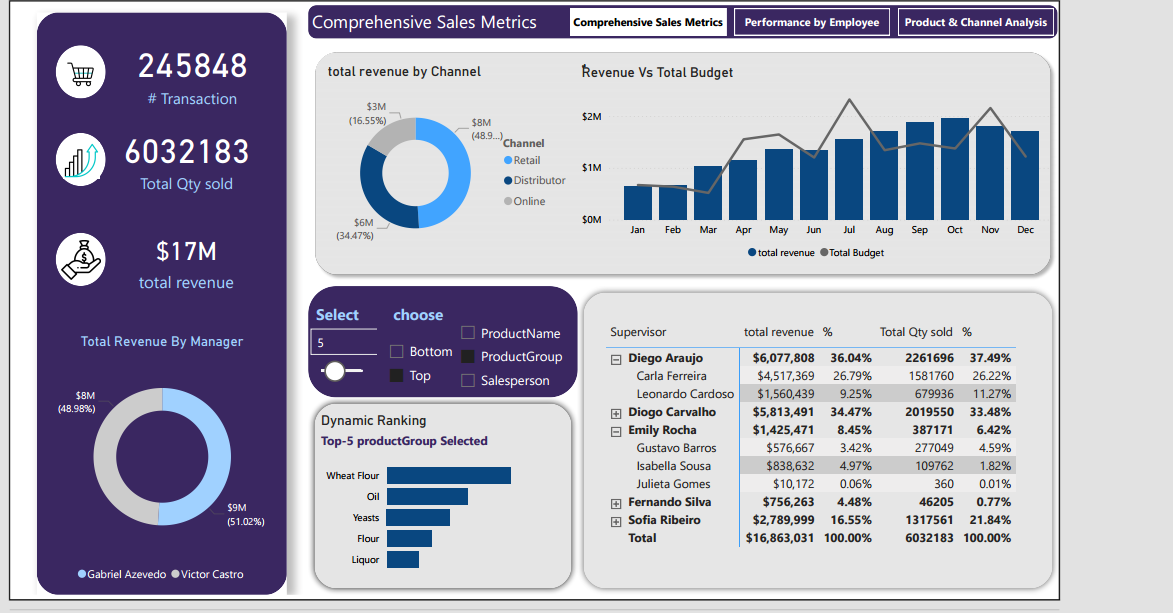

The page's visual inventory and layout, read from the dashboard file:
{"tool":"powerbi","page":{"name":"Comprehensive Sales Metrics","canvas":[1280,720],"ordinal":0},"visuals":[{"type":"shape","box":[365,343,329,136],"z":0},{"type":"shape","box":[365,479,329,241],"z":1000},{"type":"shape","box":[694,343,586,377],"z":2000},{"type":"shape","box":[365,49,915,288],"z":3000},{"type":"shape","box":[34,9,305,711],"z":4000},{"type":"card","fields":{"Values":["measure table.total revenue"]},"box":[106,264,221,94],"z":5000},{"type":"card","fields":{"Values":["measure table.Total Qty sold"]},"box":[99,132,236,108],"z":6000},{"type":"card","fields":{"Values":["measure table.# Transaction"]},"box":[118,31,212,101],"z":7000},{"type":"donutChart","title":"         Total Revenue By Manager","fields":{"Category":["Dim_salesperson.Manager"],"Y":["measure table.total revenue"]},"box":[47,400,280,313],"z":8000},{"type":"donutChart","fields":{"Category":["FactTable.Channel"],"Y":["measure table.total revenue"]},"box":[384,71,310,249],"z":9000},{"type":"barChart","title":"Dynamic Ranking","fields":{"Category":["product.ProductGroup"],"Y":["measure table.Ranking"]},"box":[376,497,308,205],"z":10000},{"type":"lineStackedColumnComboChart","title":"ٌٌٌRevenue Vs Total Budget ","fields":{"Y":["measure table.total revenue"],"Category":["Calender.Year Hierarchy.Year","Calender.Year Hierarchy.Month","Calender.Year Hierarchy.Qtr"],"Y2":["measure table.Total Budget"]},"box":[694,71,586,249],"z":11000},{"type":"pivotTable","fields":{"Rows":["Dim_salesperson.Supervisor","Dim_salesperson.Salesperson"],"Values":["measure table.total revenue","measure table.Pct of Revenue","measure table.Total Qty sold","measure table.Pct of Qtr"]},"box":[724,382,525,338],"z":12000},{"type":"shape","box":[365.5,0,914.5,40.9],"z":12500},{"type":"slicer","fields":{"Values":["Choose Rank.Choose Rank"]},"box":[354.7,384.8,97.5,86],"z":13000},{"type":"shape","box":[57,49,61,65],"z":15000},{"type":"shape","box":[57,156,61,65],"z":16000},{"type":"shape","box":[57,278,61,65],"z":17000},{"type":"image","box":[62,56,51,52],"z":18000},{"type":"image","box":[62,163,54,54],"z":19000},{"type":"image","box":[58,282,59,58],"z":20000},{"type":"slicer","fields":{"Values":["Choose RankType. Select"]},"box":[452.2,402.6,96.7,68.3],"z":21000},{"type":"slicer","fields":{"Values":["selectToRank.selectToRank"]},"box":[539.1,379.5,164,96.7],"z":22000},{"type":"textbox","box":[369.8,360,93.1,39.9],"z":23000},{"type":"textbox","box":[464,360,93.1,39.9],"z":24000},{"type":"pageNavigator","box":[684.5,3.6,591.8,33.6],"z":24001},{"type":"textbox","box":[365.5,0,310,56.4],"z":24002}]}

Visuals, with their boxes on the page's 1280x720 design canvas (x1, y1, x2, y2). These are canvas units, not pixel positions in the 1173x613 screenshot, which may show the page scaled, cropped or inside an application window:
shape: 365,343,694,479
shape: 365,479,694,720
shape: 694,343,1280,720
shape: 365,49,1280,337
shape: 34,9,339,720
card - measure table.total revenue: 106,264,327,358
card - measure table.Total Qty sold: 99,132,335,240
card - measure table.# Transaction: 118,31,330,132
"         Total Revenue By Manager" donutChart: 47,400,327,713
donutChart - FactTable.Channel x measure table.total revenue: 384,71,694,320
"Dynamic Ranking" barChart: 376,497,684,702
"ٌٌٌRevenue Vs Total Budget " lineStackedColumnComboChart: 694,71,1280,320
pivotTable - Dim_salesperson.Supervisor x Dim_salesperson.Salesperson: 724,382,1249,720
shape: 366,0,1280,41
slicer - Choose Rank.Choose Rank: 355,385,452,471
shape: 57,49,118,114
shape: 57,156,118,221
shape: 57,278,118,343
image: 62,56,113,108
image: 62,163,116,217
image: 58,282,117,340
slicer - Choose RankType. Select: 452,403,549,471
slicer - selectToRank.selectToRank: 539,380,703,476
textbox: 370,360,463,400
textbox: 464,360,557,400
pageNavigator: 684,4,1276,37
textbox: 366,0,676,56
